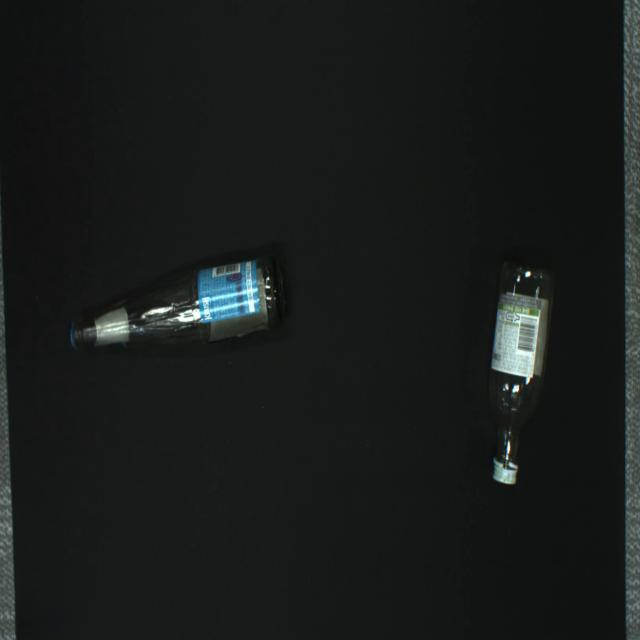beer-bottle: (71, 246, 287, 349)
soju-bottle: (488, 261, 554, 484)
